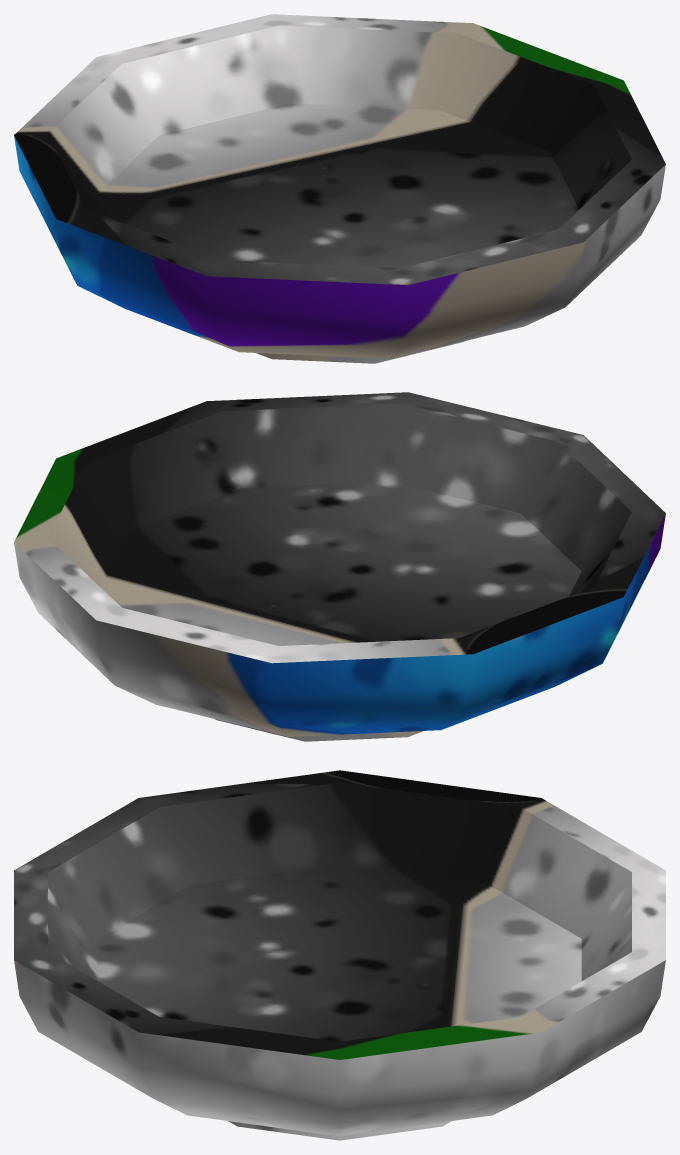
The model's file is Powder_Dish_02.fbx.
3 renders of one model, top to bottom at view 1: azimuth 30°, elevation 25°; view 2: azimuth 150°, elevation 25°; view 3: azimuth 270°, elevation 25°, orthographic. The views are drawn at different scales.
Visible parts, largest first — view 1: Powder_Dish_02; view 2: Powder_Dish_02; view 3: Powder_Dish_02.
Part boxes in pixels (x1,y1,x2,y2): Powder_Dish_02: (14, 14, 665, 363); Powder_Dish_02: (14, 392, 665, 741); Powder_Dish_02: (14, 770, 665, 1140).
Bounding box in the file's own units: 64.82 × 16.14 × 61.65.
1 material, 1 textured.
